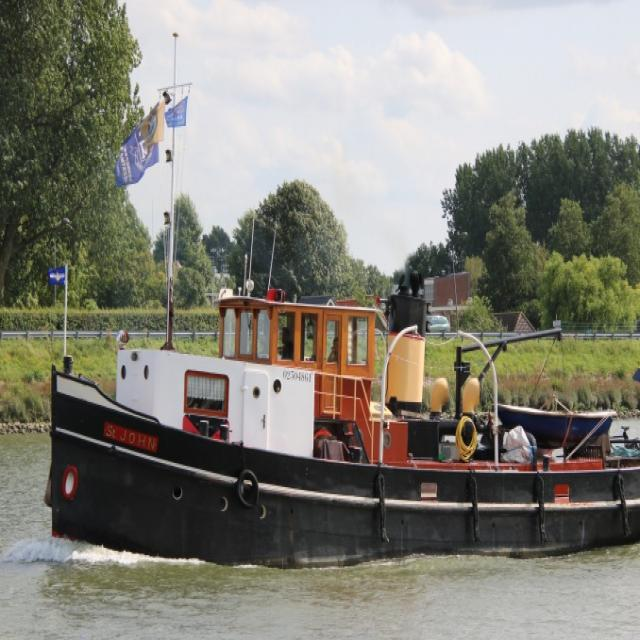tugboat: (41, 255, 640, 584)
